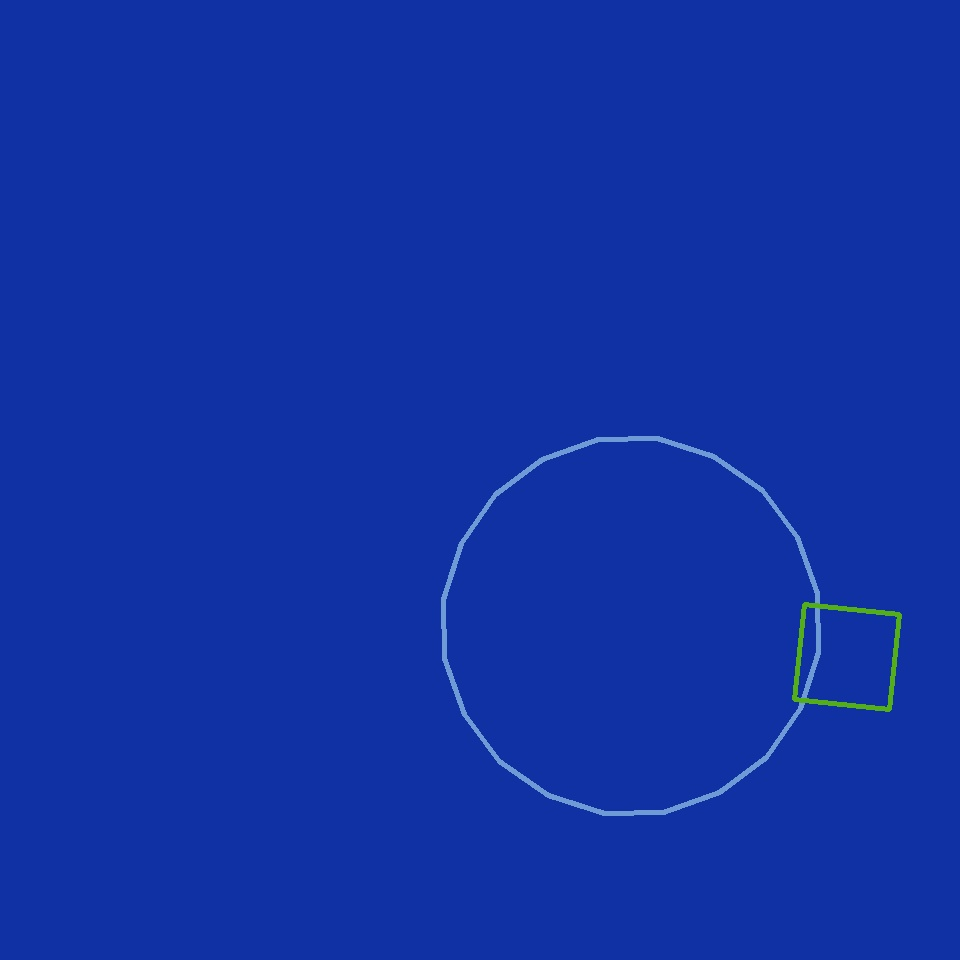square: (794, 604, 900, 710)
triangle: (444, 438, 818, 814)
